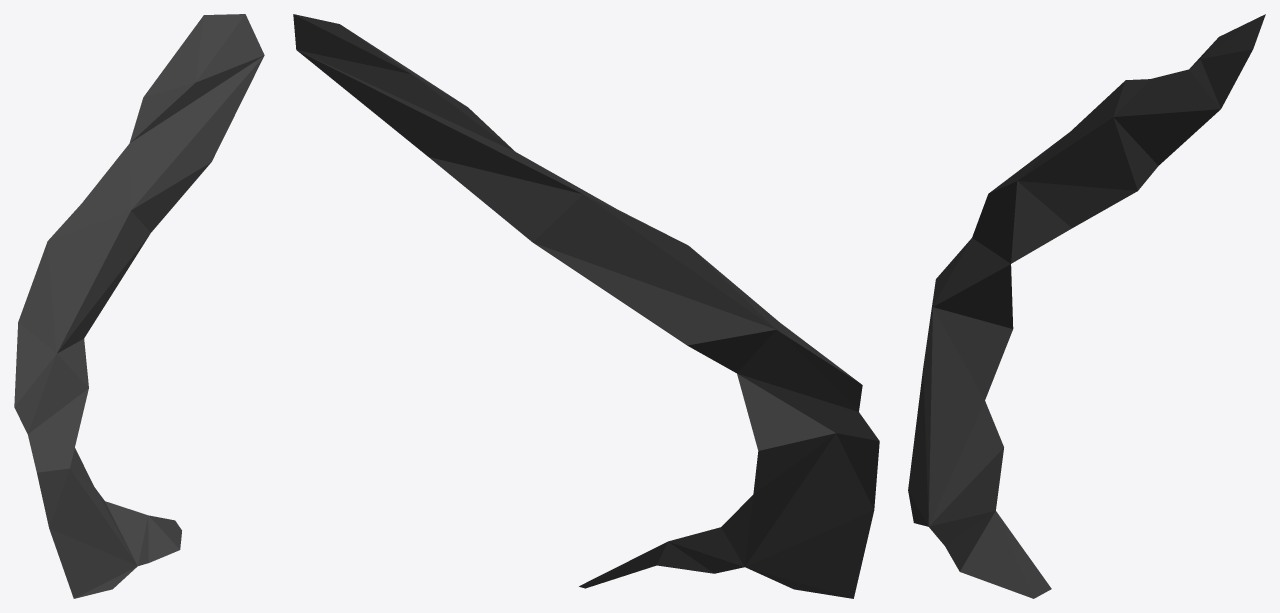
The model's file is A_phrenicoabdominal_L_A_phrenicoabdominal_L.glb.
The picture shows the model from 3 angles, left to right: view 1: azimuth 30°, elevation 25°; view 2: azimuth 150°, elevation 25°; view 3: azimuth 270°, elevation 25°; orthographic projection. The views are drawn at different scales.
Parts seen in each view (by area): view 1: A_phrenicoabdominal_L_A_phrenicoabdominal_L; view 2: A_phrenicoabdominal_L_A_phrenicoabdominal_L; view 3: A_phrenicoabdominal_L_A_phrenicoabdominal_L.
Boxes of the visible parts, box(x1,y1,x2,y2) form: A_phrenicoabdominal_L_A_phrenicoabdominal_L: box(14, 14, 264, 598); A_phrenicoabdominal_L_A_phrenicoabdominal_L: box(293, 14, 879, 598); A_phrenicoabdominal_L_A_phrenicoabdominal_L: box(908, 14, 1265, 598).
Size of the model in its own units: 0.00638 by 0.00816 by 0.004.
Materials: 1 (1 with a texture image).
